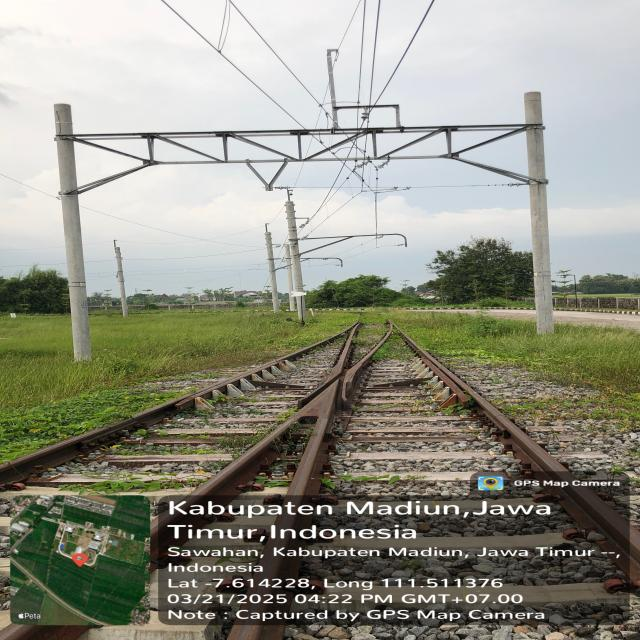rail-detection: (405, 337, 640, 574), (0, 331, 347, 481), (181, 323, 394, 510), (151, 512, 177, 569)
